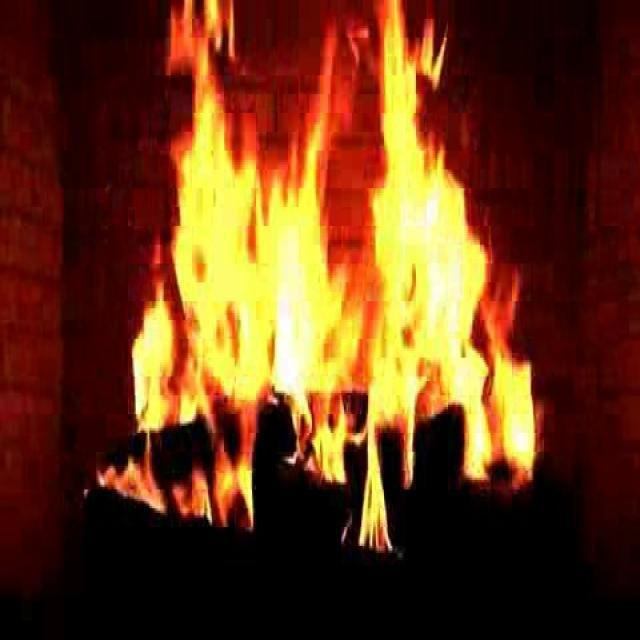Fire: (124, 13, 540, 530)
